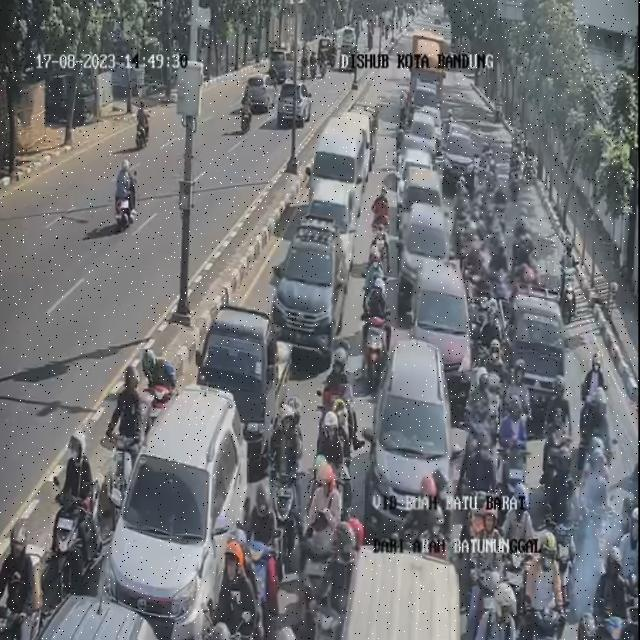bunch of motorcycle: (462, 410, 638, 640), (448, 179, 541, 297)
cars: (103, 385, 248, 639), (366, 338, 456, 542), (197, 306, 291, 461), (271, 216, 348, 364), (344, 547, 459, 640), (412, 258, 472, 394), (510, 298, 567, 408), (399, 202, 449, 309), (39, 595, 157, 640), (314, 118, 366, 213), (309, 178, 357, 267), (398, 149, 434, 208), (444, 121, 476, 187), (406, 167, 442, 211), (401, 133, 435, 158)
motorcycle: (296, 454, 346, 639), (101, 369, 154, 536), (51, 433, 103, 594), (6, 505, 58, 640), (266, 401, 304, 577), (305, 414, 359, 536), (317, 340, 363, 479), (317, 524, 362, 640), (136, 339, 180, 456), (248, 474, 282, 625), (500, 361, 534, 492), (580, 378, 616, 498), (227, 544, 267, 640), (545, 374, 575, 494), (466, 368, 496, 485), (358, 286, 391, 392), (586, 302, 614, 390), (475, 298, 502, 384), (362, 249, 388, 325)
